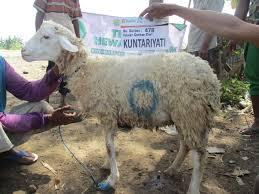Sheep: (20, 14, 86, 78)
